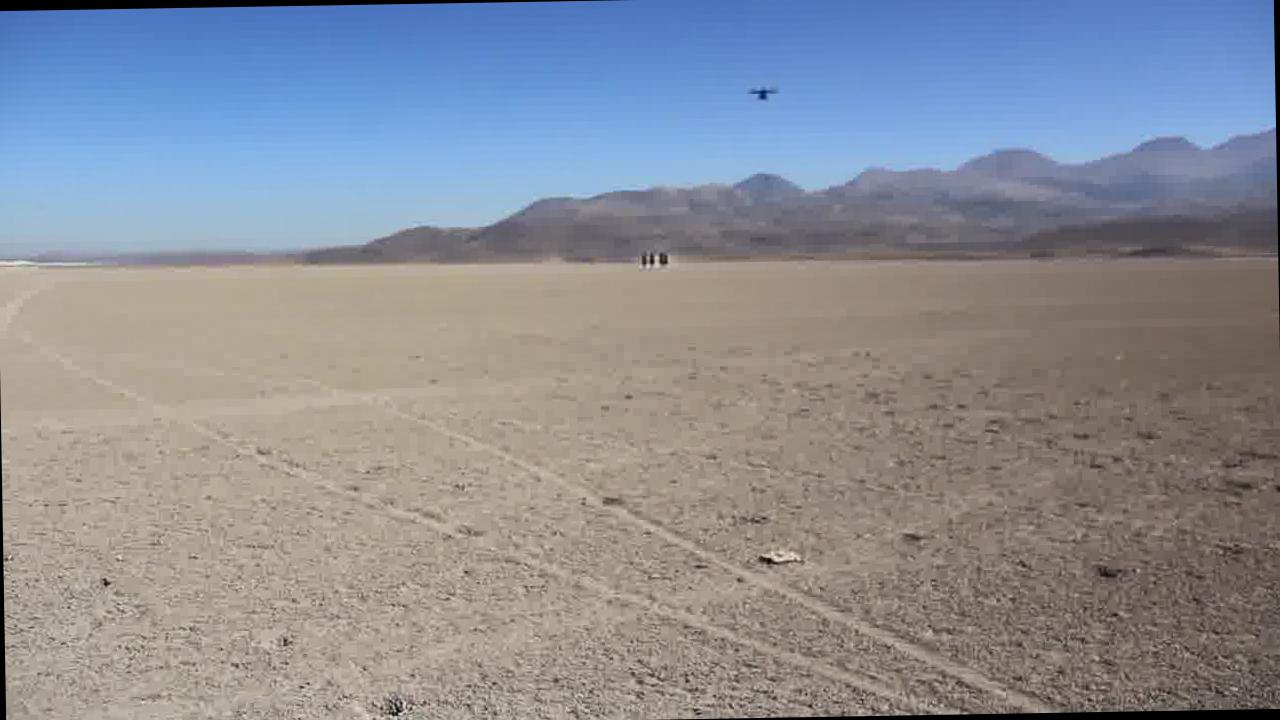drone: (744, 81, 780, 102)
